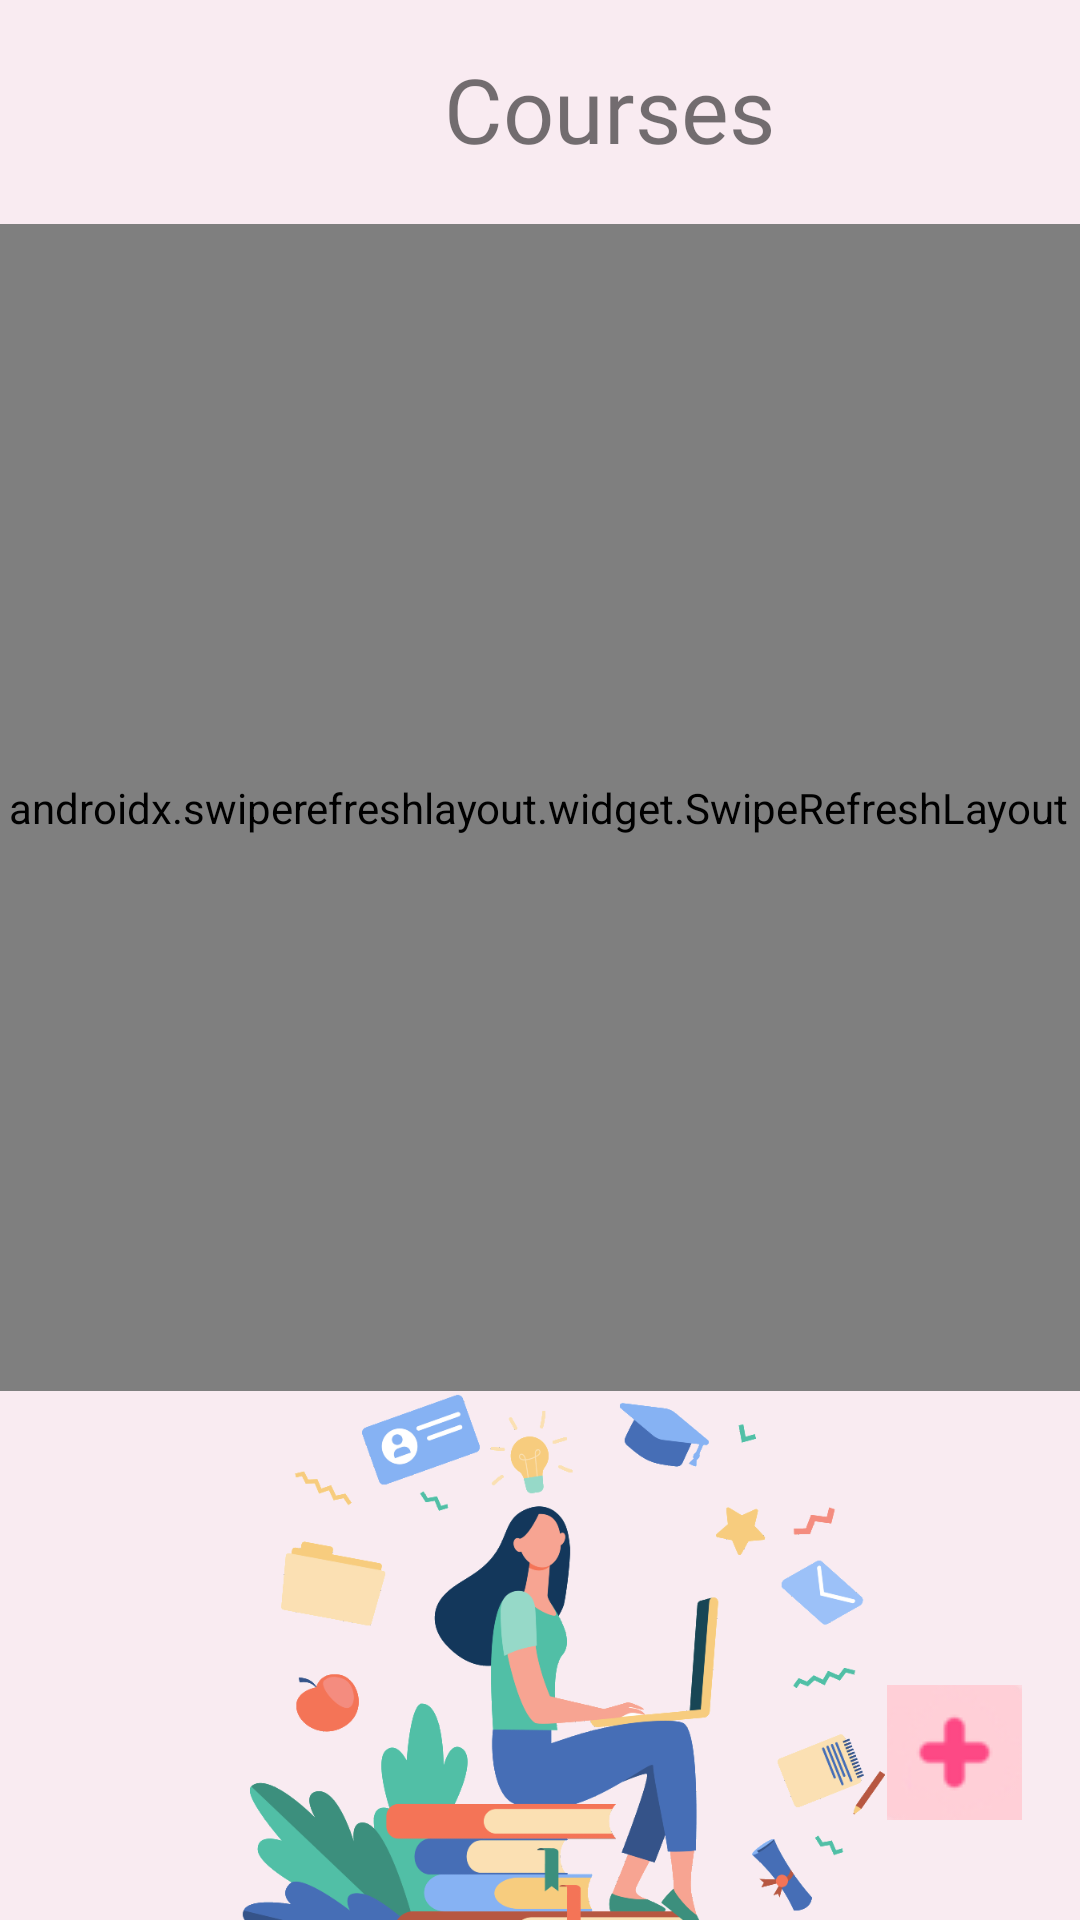

Where icons sit on this 1080w x 1920h app screen, as (x1, y1, x2, y2):
Add Course: (887, 1685, 1022, 1820)
